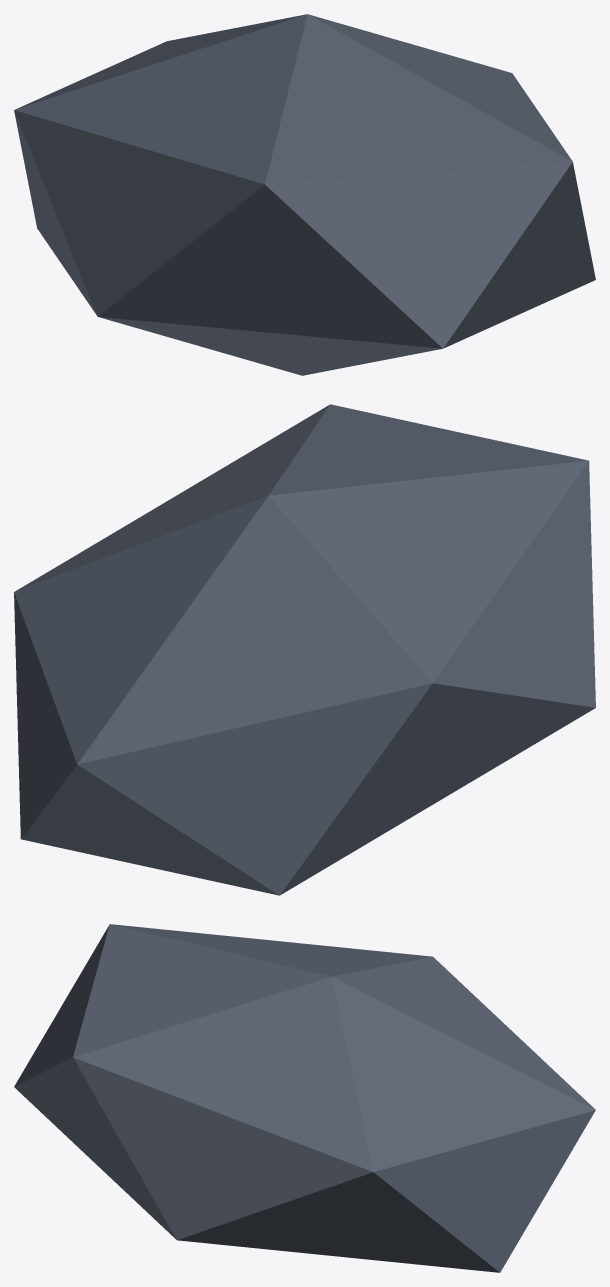
Rendered from EXT_SouthCliff_05_Shard_1.glb.
3 views of the same model, one above another, from view 1: azimuth 30°, elevation 25°; view 2: azimuth 150°, elevation 25°; view 3: azimuth 270°, elevation 25° (orthographic). The views are drawn at different scales.
Visible parts, largest first — view 1: EXT_SouthCliff_05_Shard_1; view 2: EXT_SouthCliff_05_Shard_1; view 3: EXT_SouthCliff_05_Shard_1.
Boxes of the visible parts, <box> form: EXT_SouthCliff_05_Shard_1: <box>14,14,595,375</box>; EXT_SouthCliff_05_Shard_1: <box>14,404,595,895</box>; EXT_SouthCliff_05_Shard_1: <box>14,924,595,1272</box>.
Bounding box in the file's own units: 1.31 × 0.8191 × 1.67.
